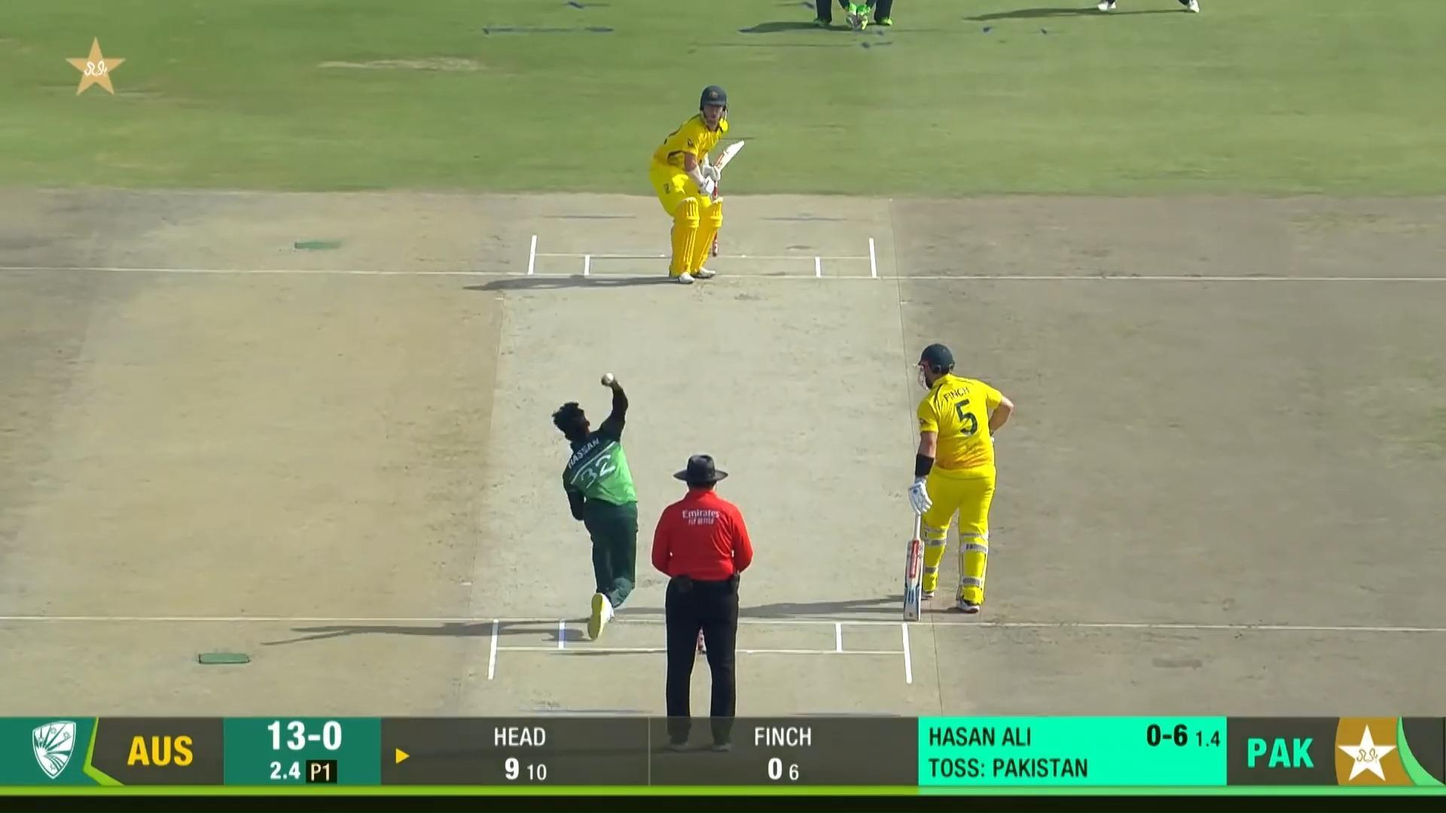BM 1: (648, 83, 747, 284)
BO: (551, 371, 640, 641)
